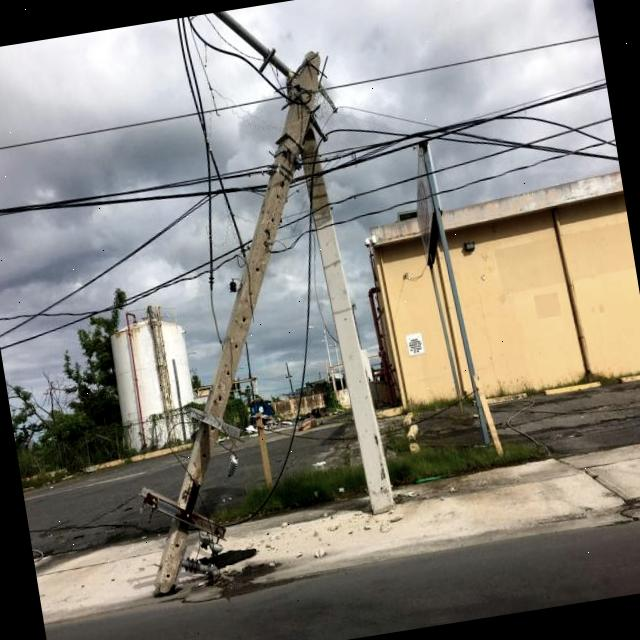Broken Pole: (137, 51, 322, 593)
